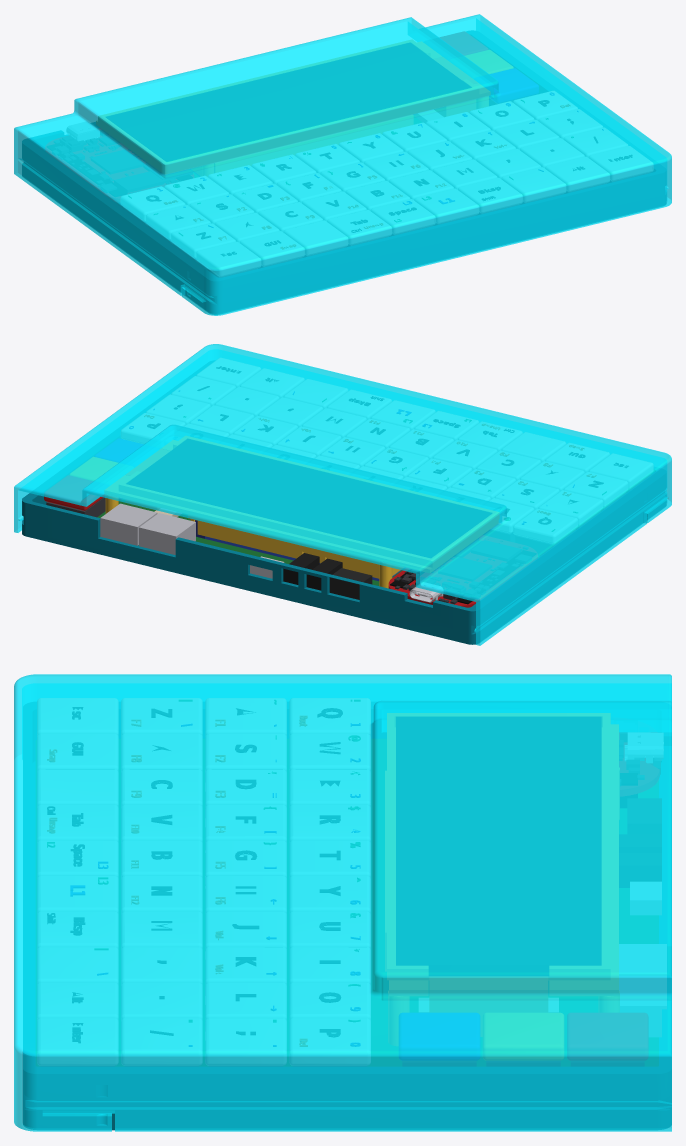
File: cover_bondi.glb
3 renders of one model, top to bottom at view 1: azimuth 30°, elevation 25°; view 2: azimuth 150°, elevation 25°; view 3: azimuth 270°, elevation 25°, orthographic. The views are drawn at different scales.
Parts seen in each view (by area): view 1: Lid, Internals, Tray; view 2: Lid, Internals, Tray; view 3: Lid, Internals, Tray.
Boxes of the visible parts, left/top/right/bottom form: Lid: left=14, top=14, right=671, bottom=315; Internals: left=45, top=32, right=652, bottom=276; Tray: left=22, top=31, right=665, bottom=314; Lid: left=14, top=344, right=671, bottom=645; Internals: left=44, top=358, right=652, bottom=607; Tray: left=22, top=361, right=665, bottom=644; Lid: left=14, top=674, right=671, bottom=1131; Internals: left=36, top=698, right=666, bottom=1065; Tray: left=23, top=702, right=671, bottom=1130.
Bounding box in the file's own units: 0.1818 × 0.0232 × 0.133.
